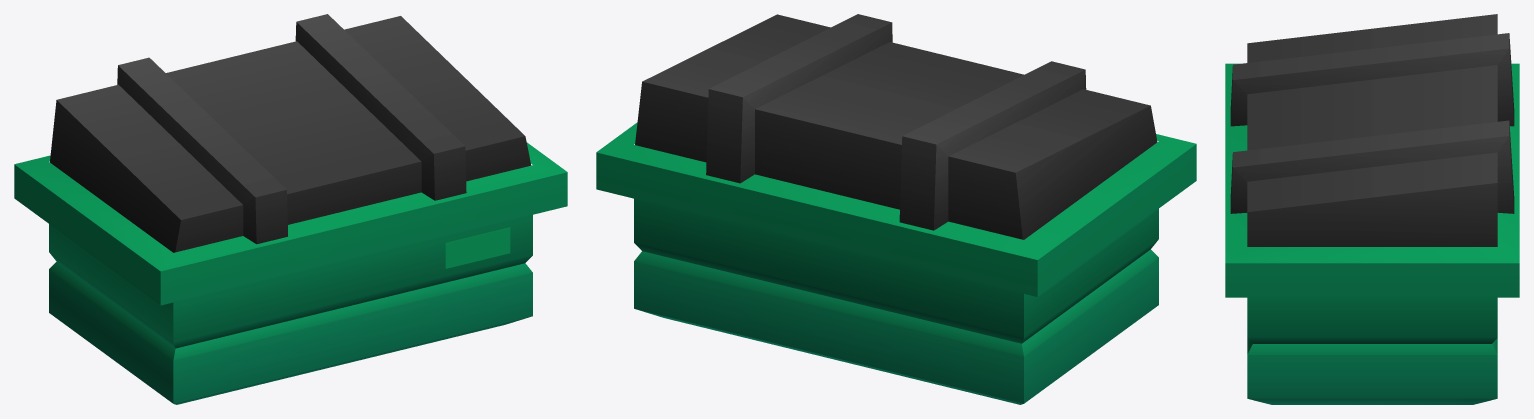
File: dumpster_free_model.glb
3 renders of one model, left to right at view 1: azimuth 30°, elevation 25°; view 2: azimuth 150°, elevation 25°; view 3: azimuth 270°, elevation 25°, orthographic. The views are drawn at different scales.
Parts seen in each view (by area): view 1: dumpster; view 2: dumpster; view 3: dumpster.
Boxes of the visible parts, <box> form: dumpster: <box>14,14,567,404</box>; dumpster: <box>596,14,1196,404</box>; dumpster: <box>1225,14,1519,404</box>.
Bounding box in the file's own units: 0.5659 × 0.3173 × 0.3528.
Materials: 1 (1 with a texture image).
